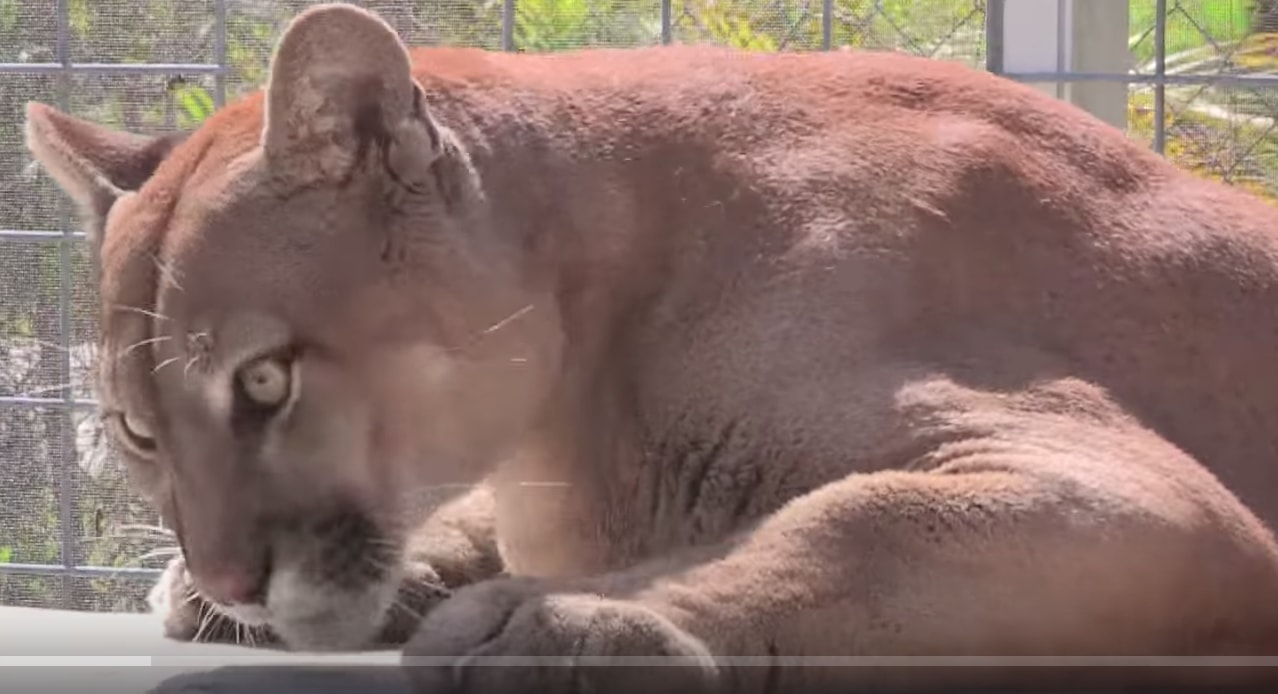Mountain Lion: (11, 12, 1266, 643)
